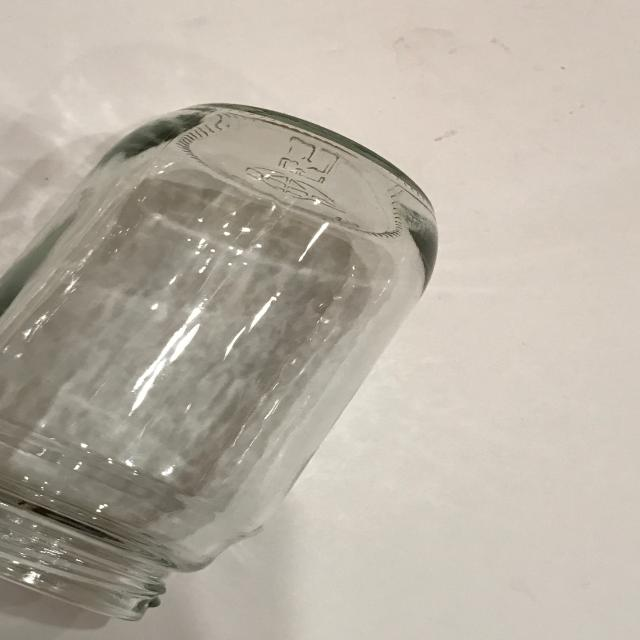glass: (6, 116, 432, 614)
